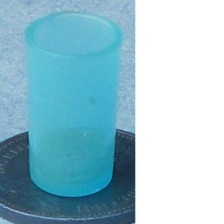glass: (17, 8, 132, 203)
